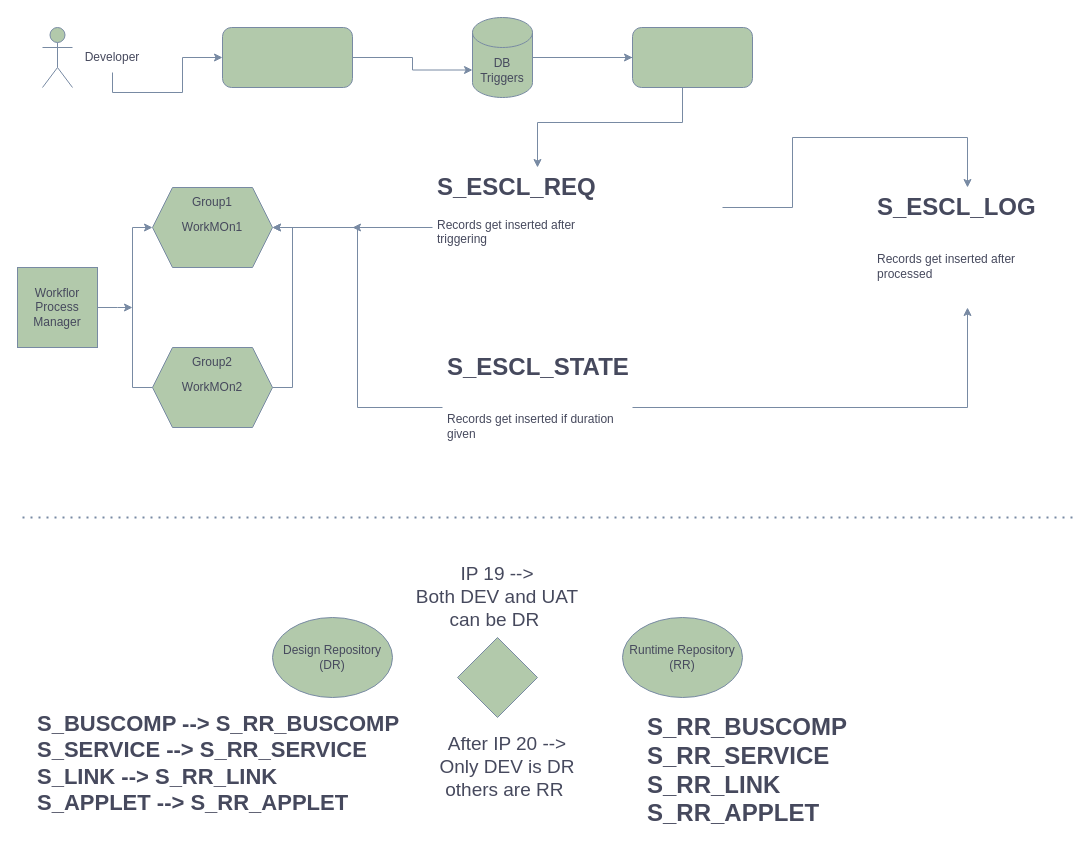
Some shapes in this 1092 by 855 pixel diagram are drawn without their labels. The centre of each missing label's shape, as x and y in pixels:
"Actor" belongs at (57,57).
"update column/field" belongs at (692,57).
"Workflow Policy" belongs at (287,57).
